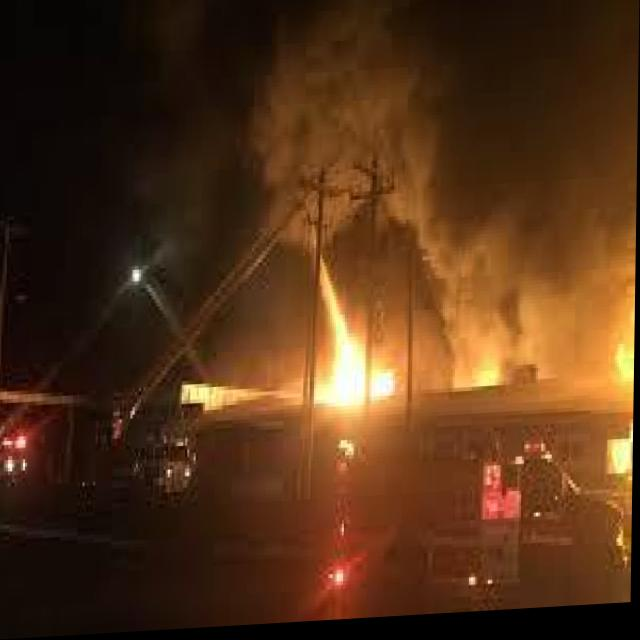fire: (298, 198, 411, 428)
